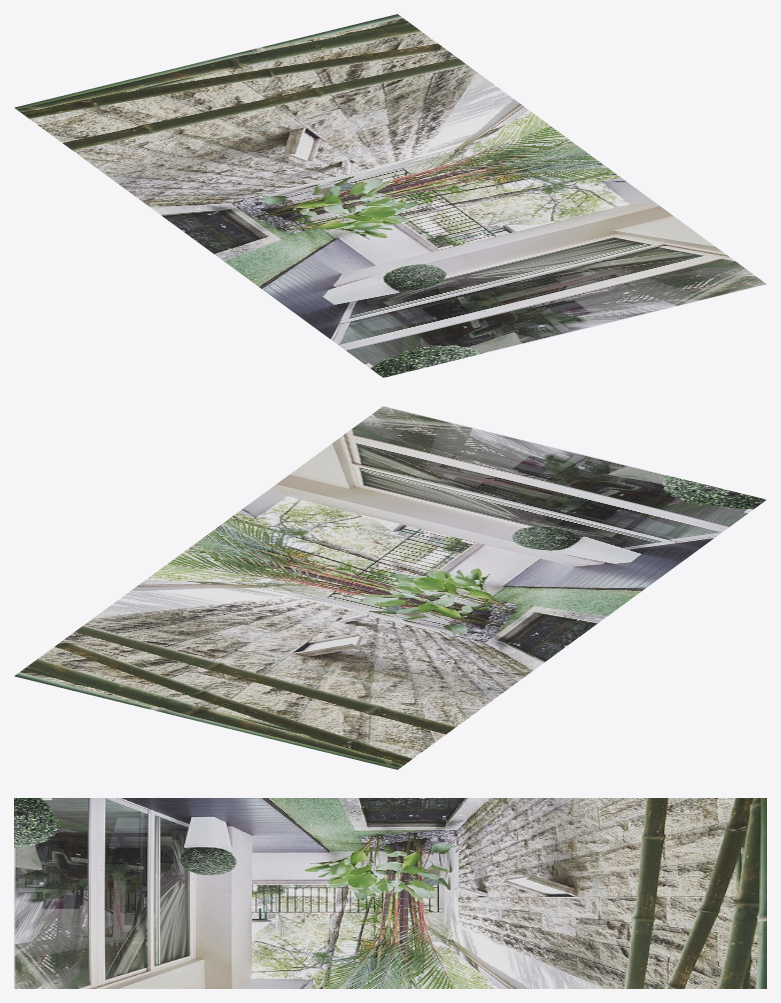
File: WindowScenary.fbx
The picture shows the model from 3 angles, top to bottom: view 1: azimuth 30°, elevation 25°; view 2: azimuth 150°, elevation 25°; view 3: azimuth 270°, elevation 25°; orthographic projection.
Parts seen in each view (by area): view 1: pPlane2; view 2: pPlane2; view 3: pPlane2.
Boxes of the visible parts, x1,y1,x2,y2 form: pPlane2: [14, 14, 766, 377]; pPlane2: [14, 406, 766, 769]; pPlane2: [14, 798, 766, 988].
Size of the model in its own units: 126 by 0 by 210.
1 material, 1 textured.
